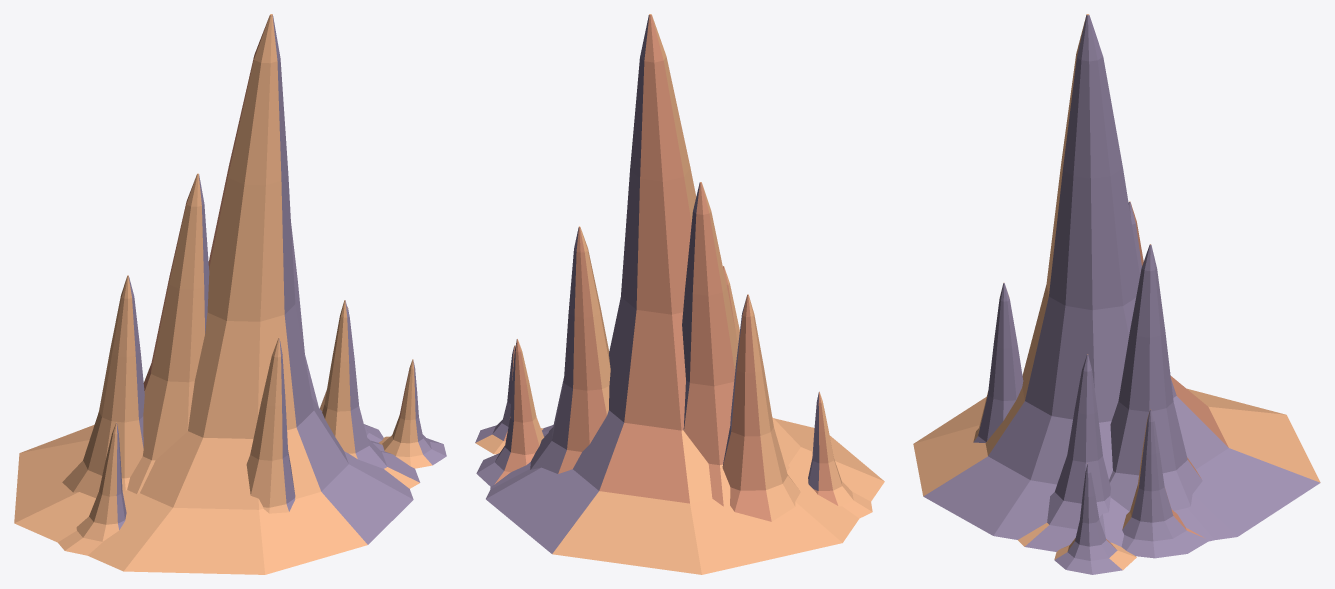
Rendered from spire.glb.
3 views of the same model, side by side, from view 1: azimuth 30°, elevation 25°; view 2: azimuth 150°, elevation 25°; view 3: azimuth 270°, elevation 25° (orthographic). The views are drawn at different scales.
Parts seen in each view (by area): view 1: spire_0, spire_1, spire_2, spire_7, spire_3, spire_6, spire_8, spire_4; view 2: spire_0, spire_1, spire_4, spire_2, spire_5, spire_6, spire_8; view 3: spire_0, spire_4, spire_3, spire_5, spire_7, spire_8.
Boxes of the visible parts, x1,y1,x2,y2 form: spire_0: (14,14,413,574); spire_1: (127,173,209,493); spire_2: (62,275,144,497); spire_7: (246,337,295,513); spire_3: (322,300,420,488); spire_6: (58,422,126,555); spire_8: (379,359,446,468); spire_4: (291,223,322,411); spire_0: (486,14,884,574); spire_1: (682,182,789,506); spire_4: (490,226,610,489); spire_2: (722,294,800,521); spire_5: (476,339,544,486); spire_6: (808,391,872,518); spire_8: (475,345,543,454); spire_0: (913,14,1320,546); spire_4: (1109,244,1214,541); spire_3: (1018,354,1110,551); spire_5: (1121,409,1207,558); spire_7: (973,282,1023,442); spire_8: (1054,464,1136,574).
Bounding box in the file's own units: 22.28 × 25 × 19.43.
